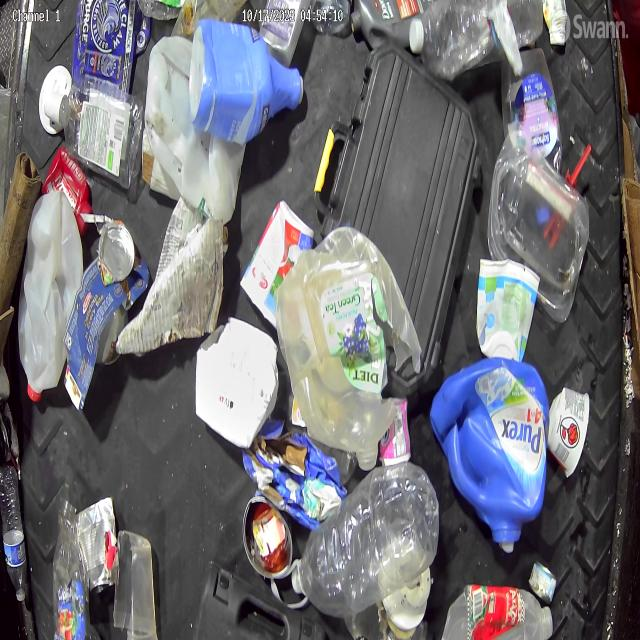can: (75, 494, 118, 595), (98, 218, 136, 283)
milk_jug: (145, 35, 246, 223), (19, 190, 84, 402)
non_white_jug: (280, 225, 399, 452), (433, 355, 550, 552)
plastic_bottle: (299, 462, 437, 610), (412, 2, 509, 78), (0, 463, 28, 602), (55, 579, 91, 640)
